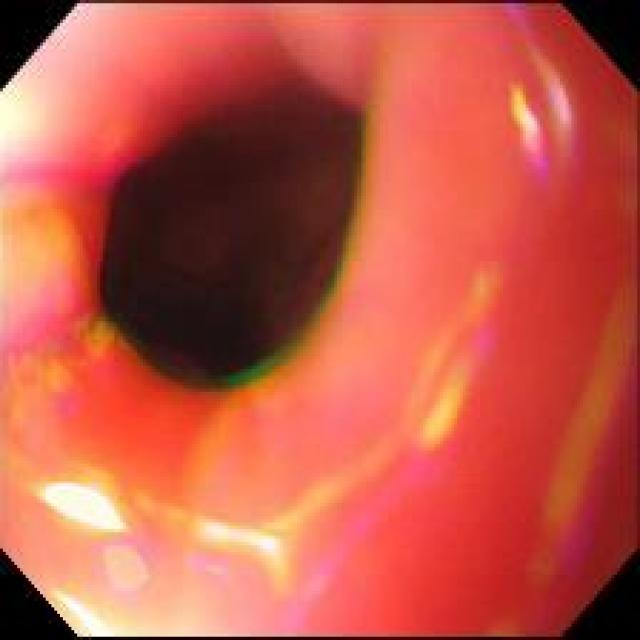blur: (3, 3, 632, 630)
color misalignment: (507, 39, 596, 185), (3, 273, 118, 379), (94, 535, 160, 598), (329, 201, 374, 288), (463, 272, 505, 363), (9, 161, 112, 198), (423, 367, 470, 446), (122, 324, 165, 386), (346, 112, 374, 206), (221, 364, 296, 394), (50, 381, 102, 420), (186, 551, 236, 590), (309, 283, 350, 328), (276, 335, 310, 364)
contrast: (83, 59, 382, 415)
saturation: (3, 33, 67, 145), (53, 590, 182, 639)
specularity: (41, 481, 122, 529), (210, 524, 276, 553), (61, 595, 108, 633)
